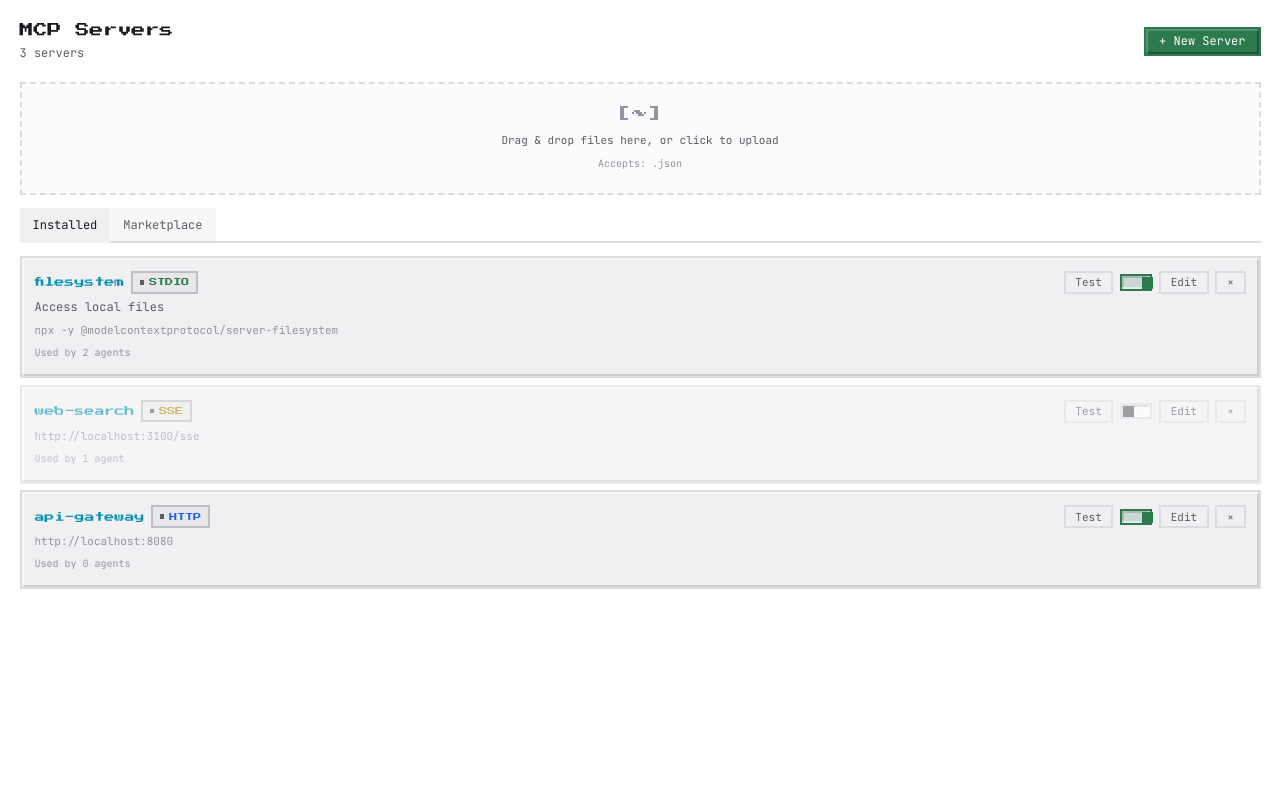
Test case: MCPServersPage › shows error when deleting server referenced by agents
The width and height of the screenshot is (1280, 800).
// Click the delete button (×) for 'filesystem' which is referenced by 2 agents
Click the button "×" in the row of "STDIO". click: (1230,282)
box: top-left (1215, 271), bottom-right (1246, 294)
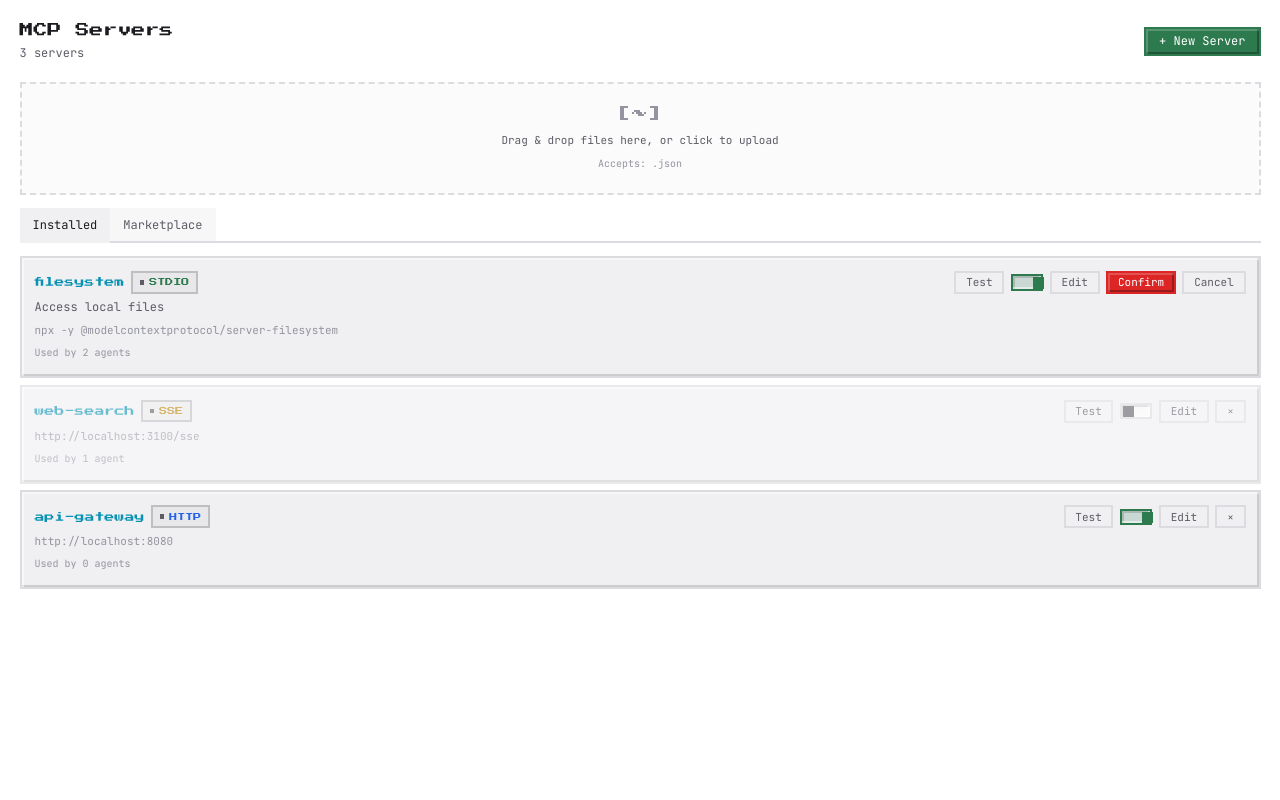
// Confirm the deletion
Click the button "Confirm". click: (1141,282)
box: top-left (1106, 271), bottom-right (1176, 294)
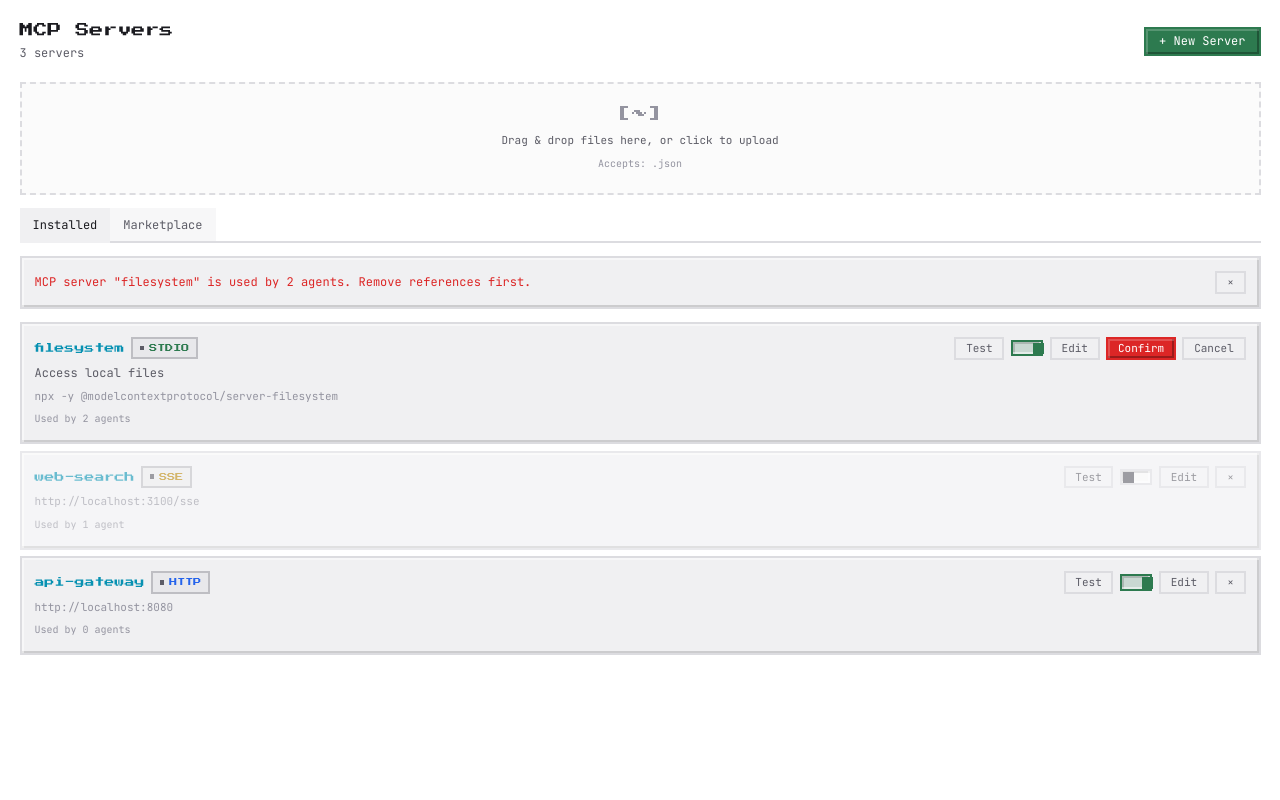
Expected: the text "is used by 2 agent" is shown, top-left (34, 274), bottom-right (531, 290)
